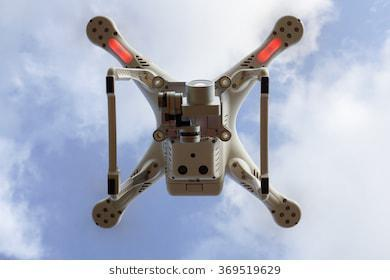drone: (79, 12, 313, 232)
